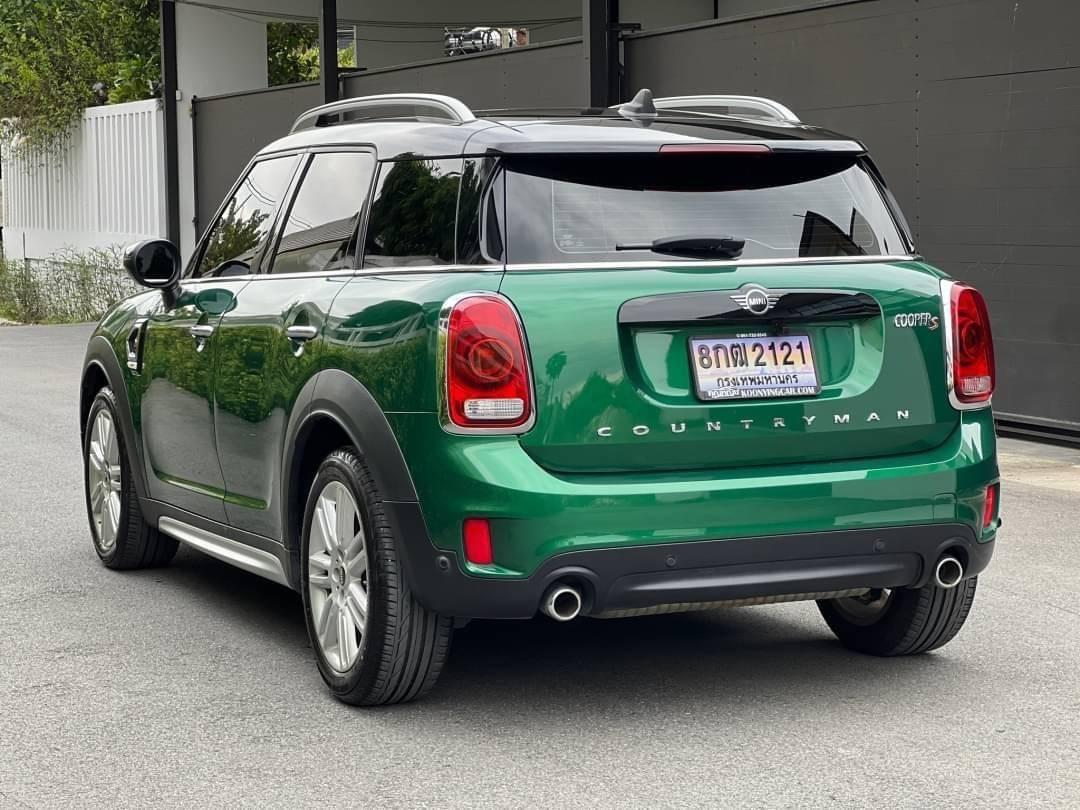license-plate: (688, 325, 822, 406)
